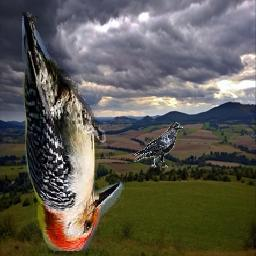Crow: (133, 122, 184, 169)
Woodpecker: (23, 13, 126, 252)
